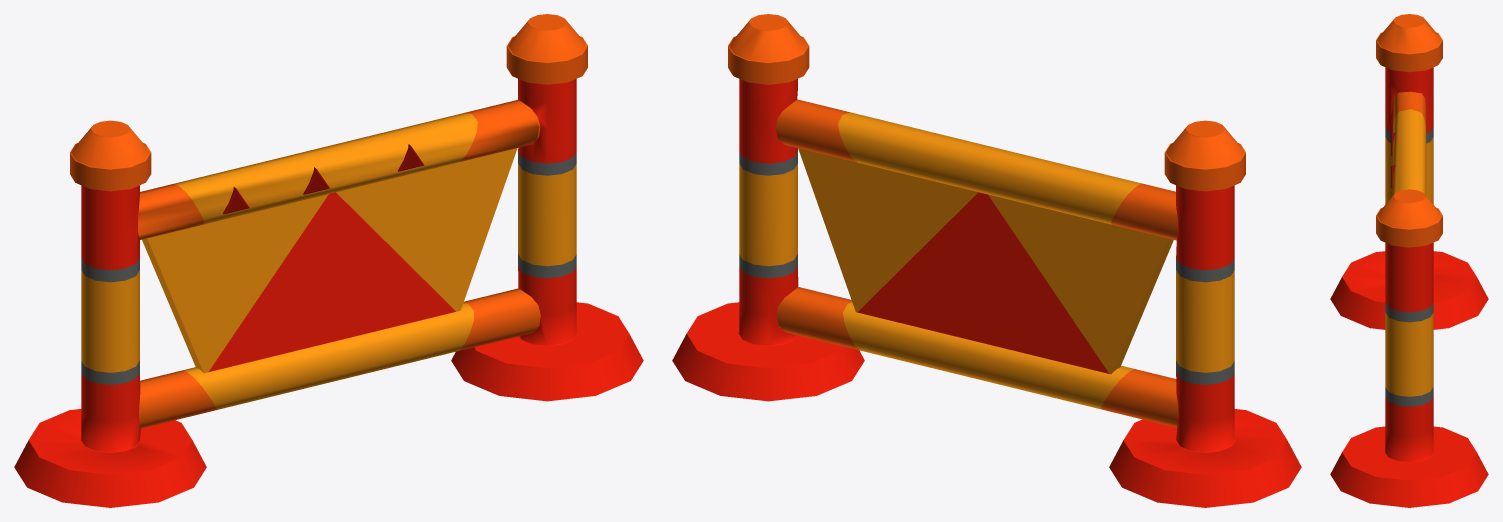
Rendered from hurdles1-transformed.glb.
The picture shows the model from 3 angles, left to right: view 1: azimuth 30°, elevation 25°; view 2: azimuth 150°, elevation 25°; view 3: azimuth 270°, elevation 25°; orthographic projection. The views are drawn at different scales.
Parts seen in each view (by area): view 1: barricate.002; view 2: barricate.002; view 3: barricate.002.
Part boxes in pixels (x1,y1,x2,y2): barricate.002: (14,14,643,507); barricate.002: (672,14,1301,507); barricate.002: (1330,14,1488,507).
Bounding box in the file's own units: 1.33 × 0.7112 × 0.3671.
Materials: 4 (4 with a texture image).
